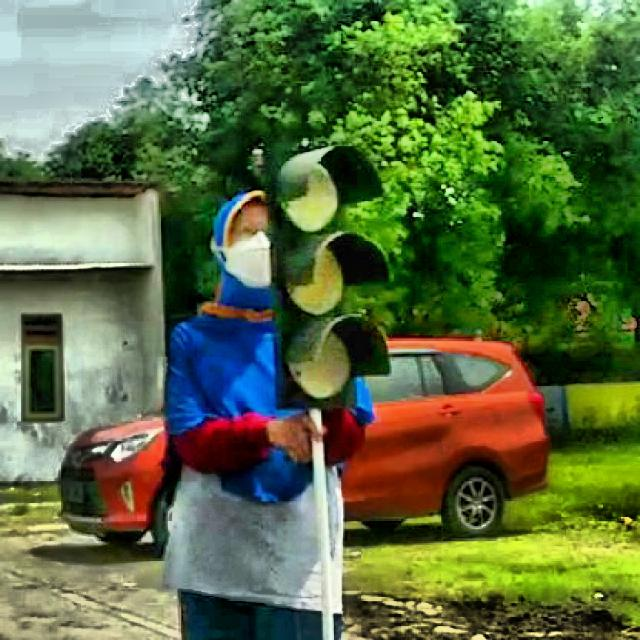yellow: (260, 150, 392, 412)
